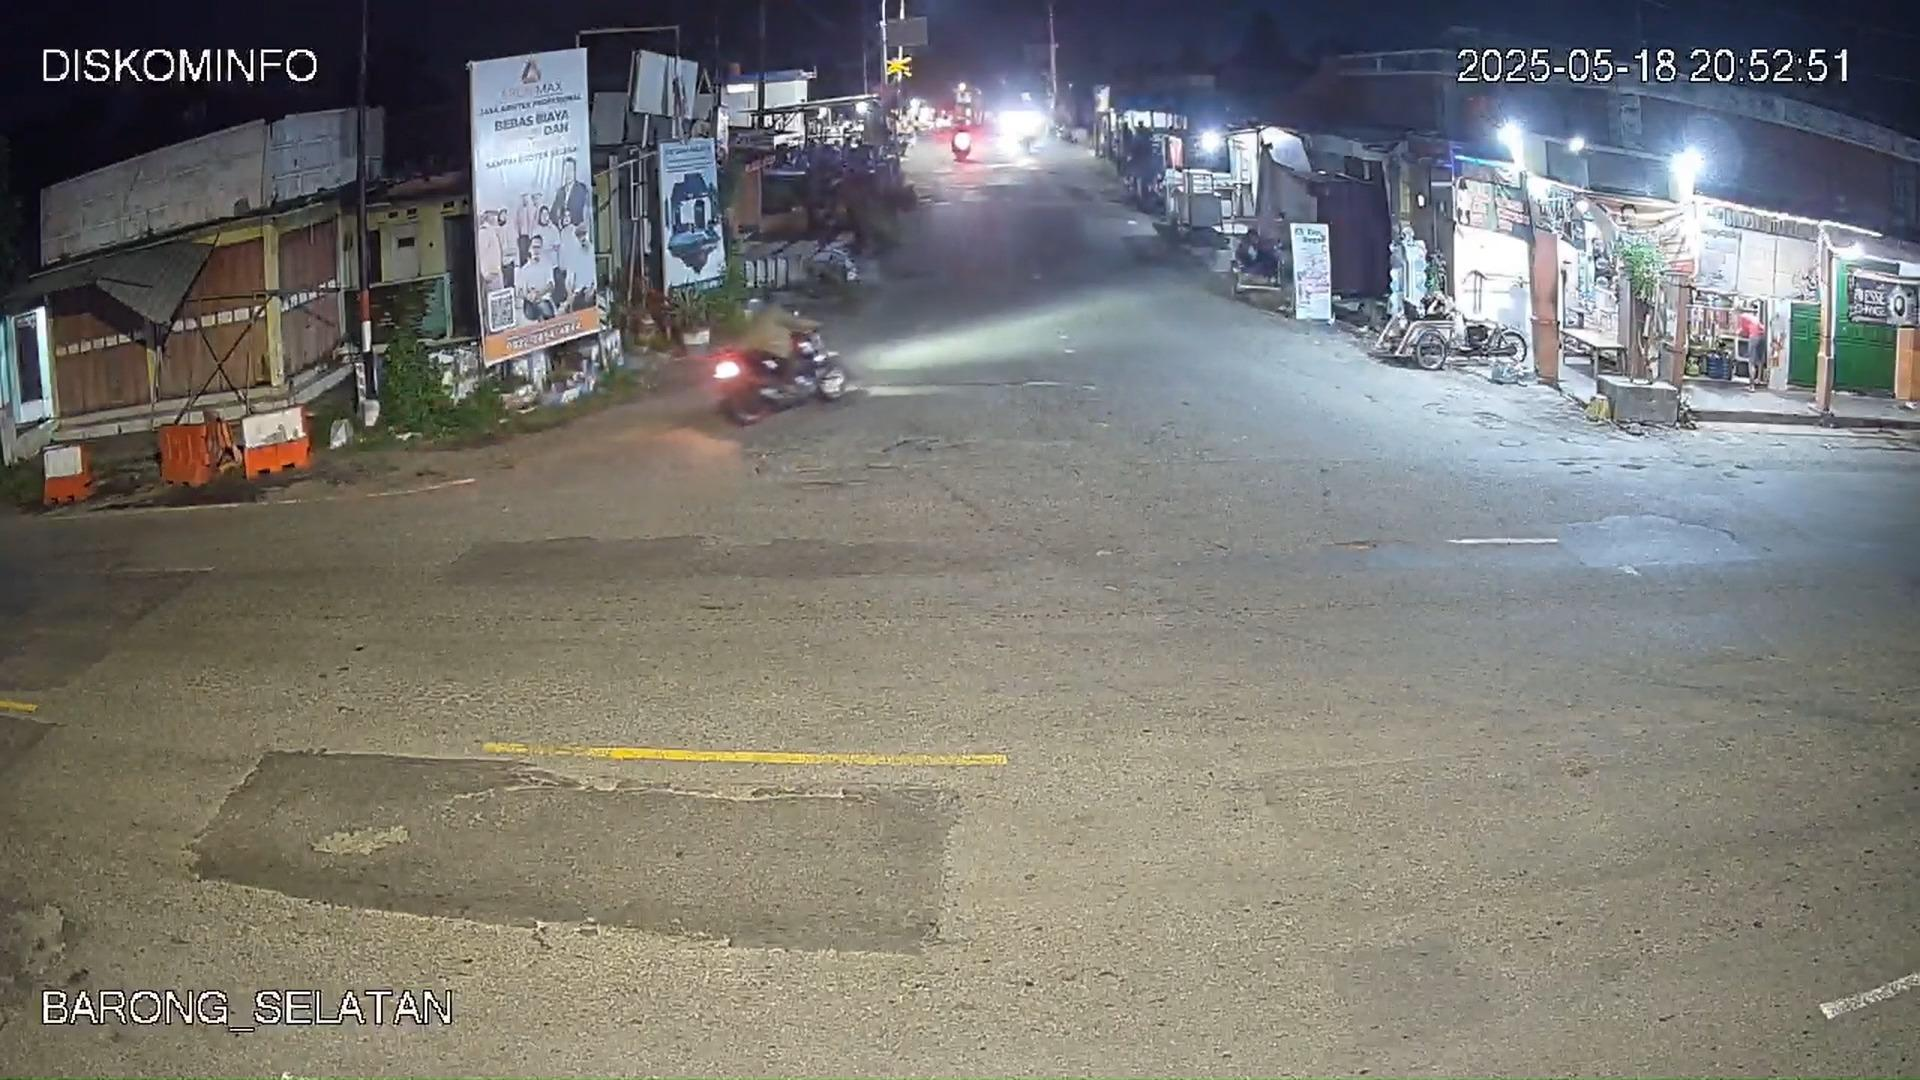Motor: (678, 305, 844, 427), (949, 103, 1000, 160)
